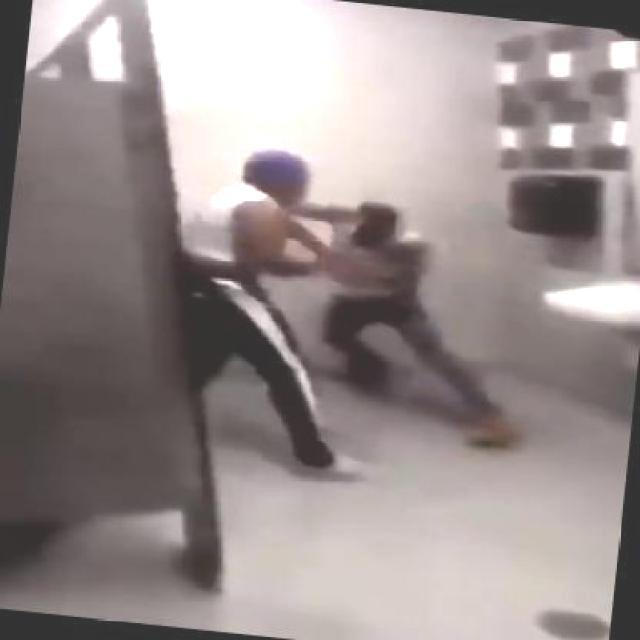fight: (162, 137, 516, 474)
